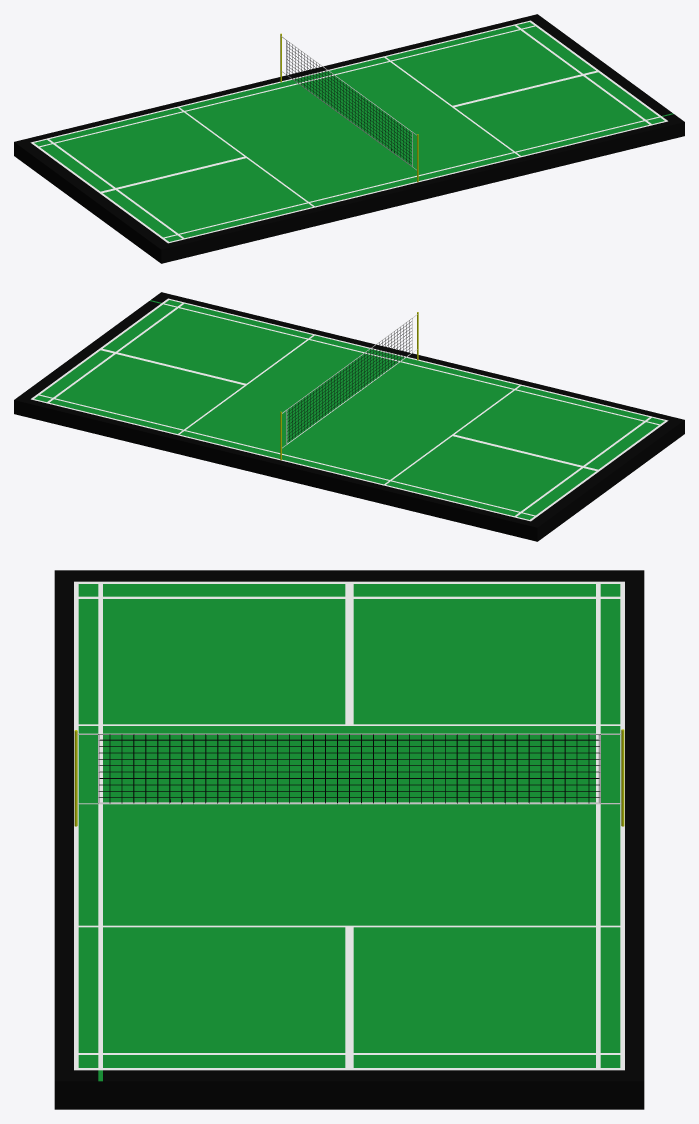
The model's file is badminton-2.fbx.
3 views of the same model, one above another, from view 1: azimuth 30°, elevation 25°; view 2: azimuth 150°, elevation 25°; view 3: azimuth 270°, elevation 25° (orthographic). The views are drawn at different scales.
Visible parts, largest first — view 1: floor, net; view 2: floor, net; view 3: floor, net.
Part boxes in pixels (x1,y1,x2,y2): floor: (14,14,684,263); net: (280,33,418,182); floor: (14,292,684,541); net: (280,312,418,460); floor: (54,570,644,1109); net: (74,729,624,826).
Bounding box in the file's own units: 4893 × 555 × 2386.
